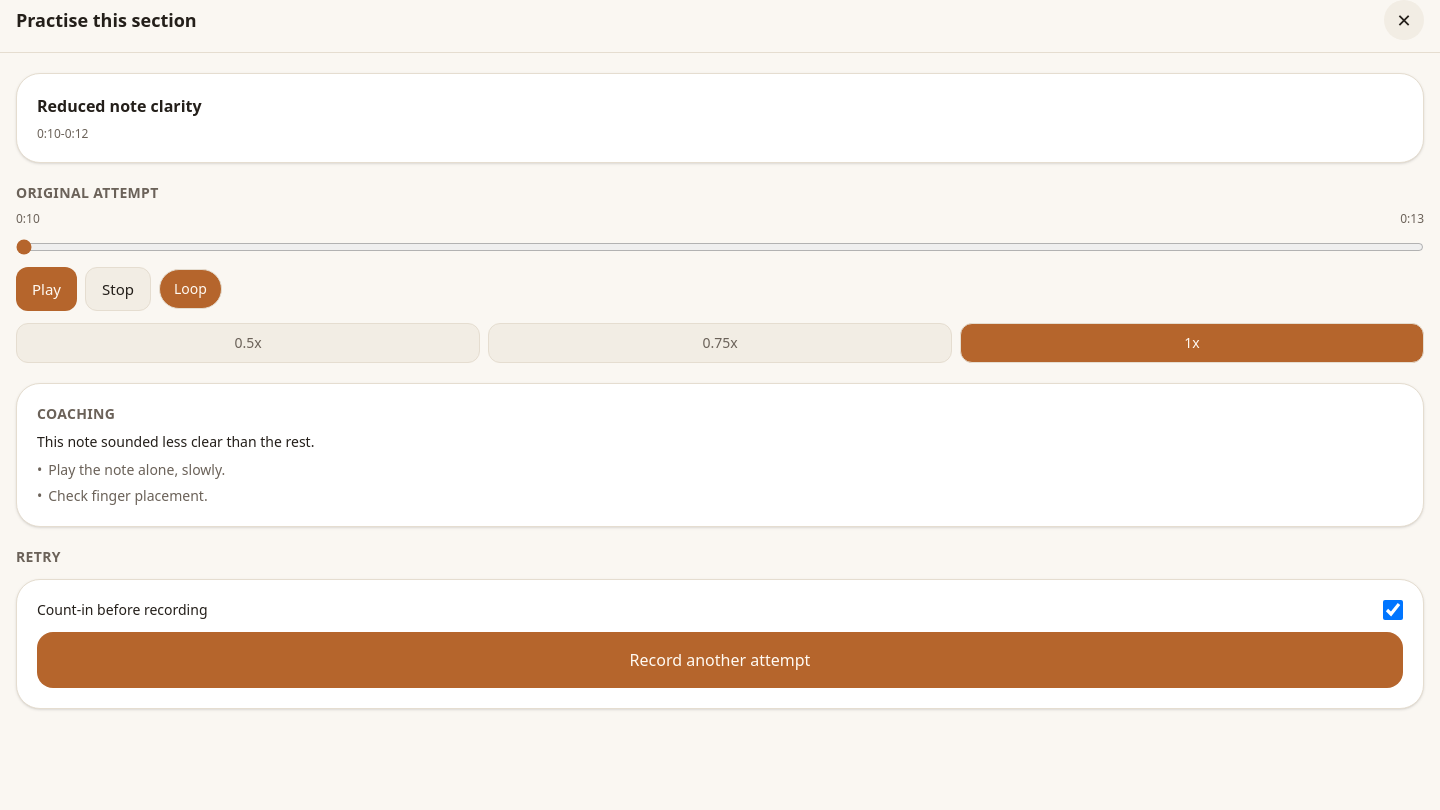
Test: PracticeSectionPanel › shows a friendly error rather than crashing when the microphone is unavailable
Click the checkbox named "Enable count-in before retry recording": (1393, 610) [1383, 600, 1403, 620]
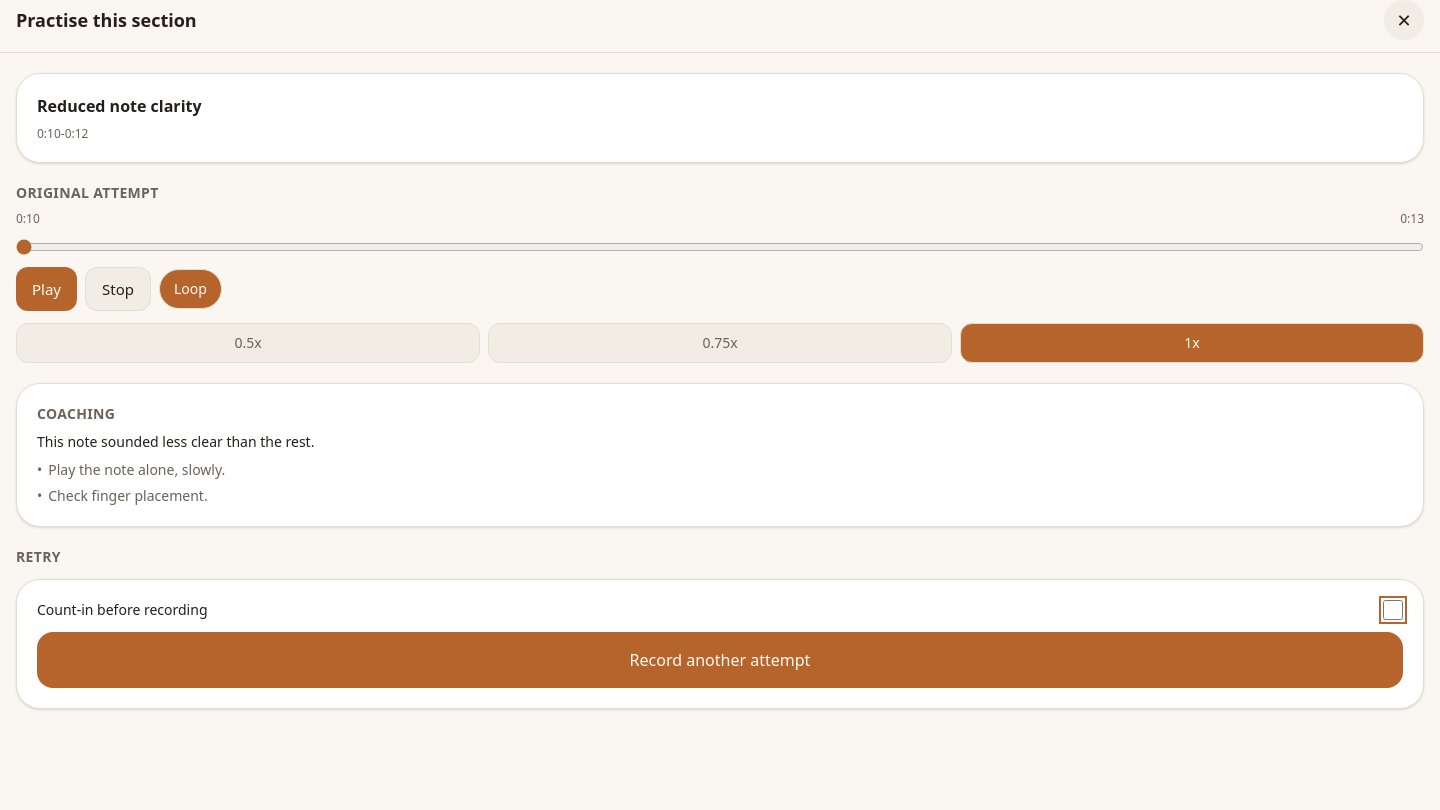
Click the button "Record another attempt": (720, 660) [37, 632, 1403, 688]
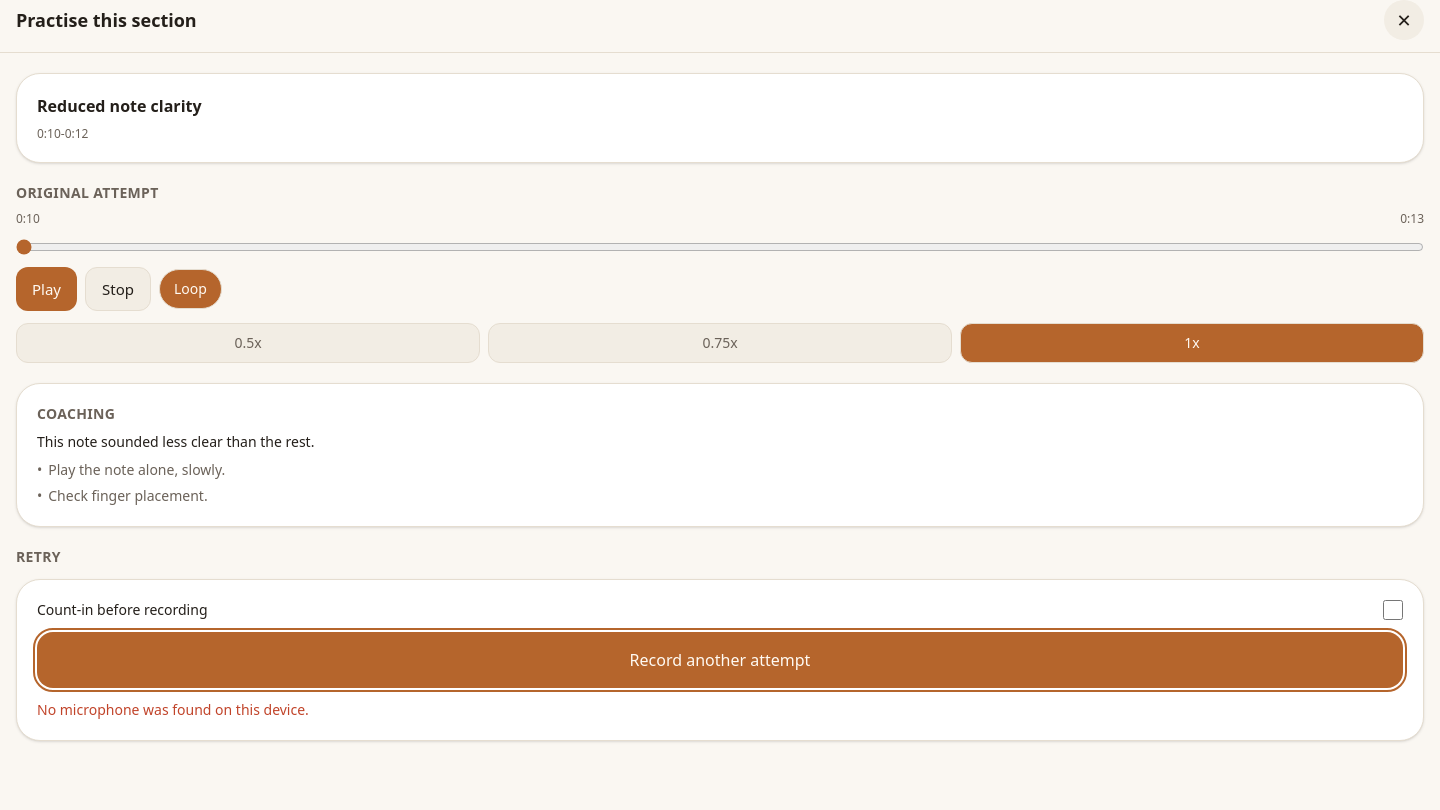
Now the text "No microphone was found on this device." is shown, box [37, 700, 309, 719]
